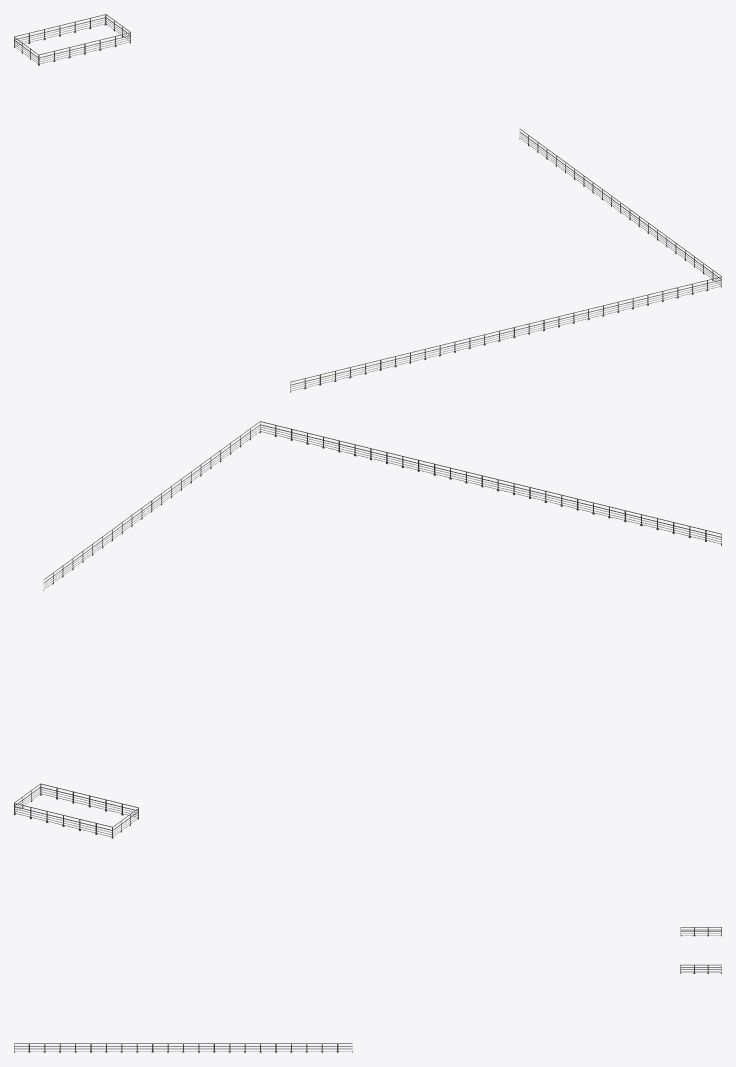
The model's file is lacmaalphas1_lan.obj.
The picture shows the model from 3 angles, top to bottom: view 1: azimuth 30°, elevation 25°; view 2: azimuth 150°, elevation 25°; view 3: azimuth 270°, elevation 25°; orthographic projection. The views are drawn at different scales.
Parts seen in each view (by area): view 1: Lacmaalphas1_LAn; view 2: Lacmaalphas1_LAn; view 3: Lacmaalphas1_LAn.
Part boxes in pixels (left/top/right/bottom): Lacmaalphas1_LAn: left=14, top=14, right=721, bottom=392; Lacmaalphas1_LAn: left=14, top=421, right=721, bottom=838; Lacmaalphas1_LAn: left=14, top=927, right=721, bottom=1052.
Bounding box in the file's own units: 48.84 × 1.22 × 82.9.
1 material, 1 textured.
